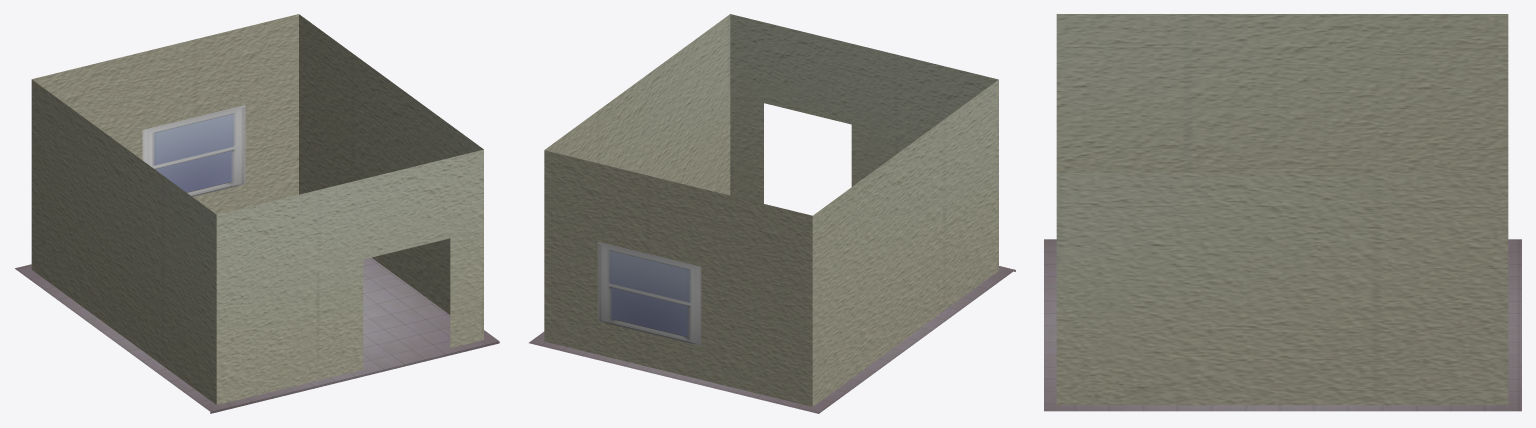
The model's file is Hospital.fbx.
The picture shows the model from 3 angles, left to right: view 1: azimuth 30°, elevation 25°; view 2: azimuth 150°, elevation 25°; view 3: azimuth 270°, elevation 25°; orthographic projection. The views are drawn at different scales.
Visible parts, largest first — view 1: Walls, Floor; view 2: Walls, Floor; view 3: Walls, Floor.
Boxes of the visible parts, x1,y1,x2,y2 form: Walls: (31,14,483,404); Floor: (15,257,499,413); Walls: (544,14,998,406); Floor: (529,266,1015,413); Walls: (1056,14,1508,405); Floor: (1044,239,1521,411).
Bounding box in the file's own units: 7.85 × 5 × 9.21.
1 material, 1 textured.
